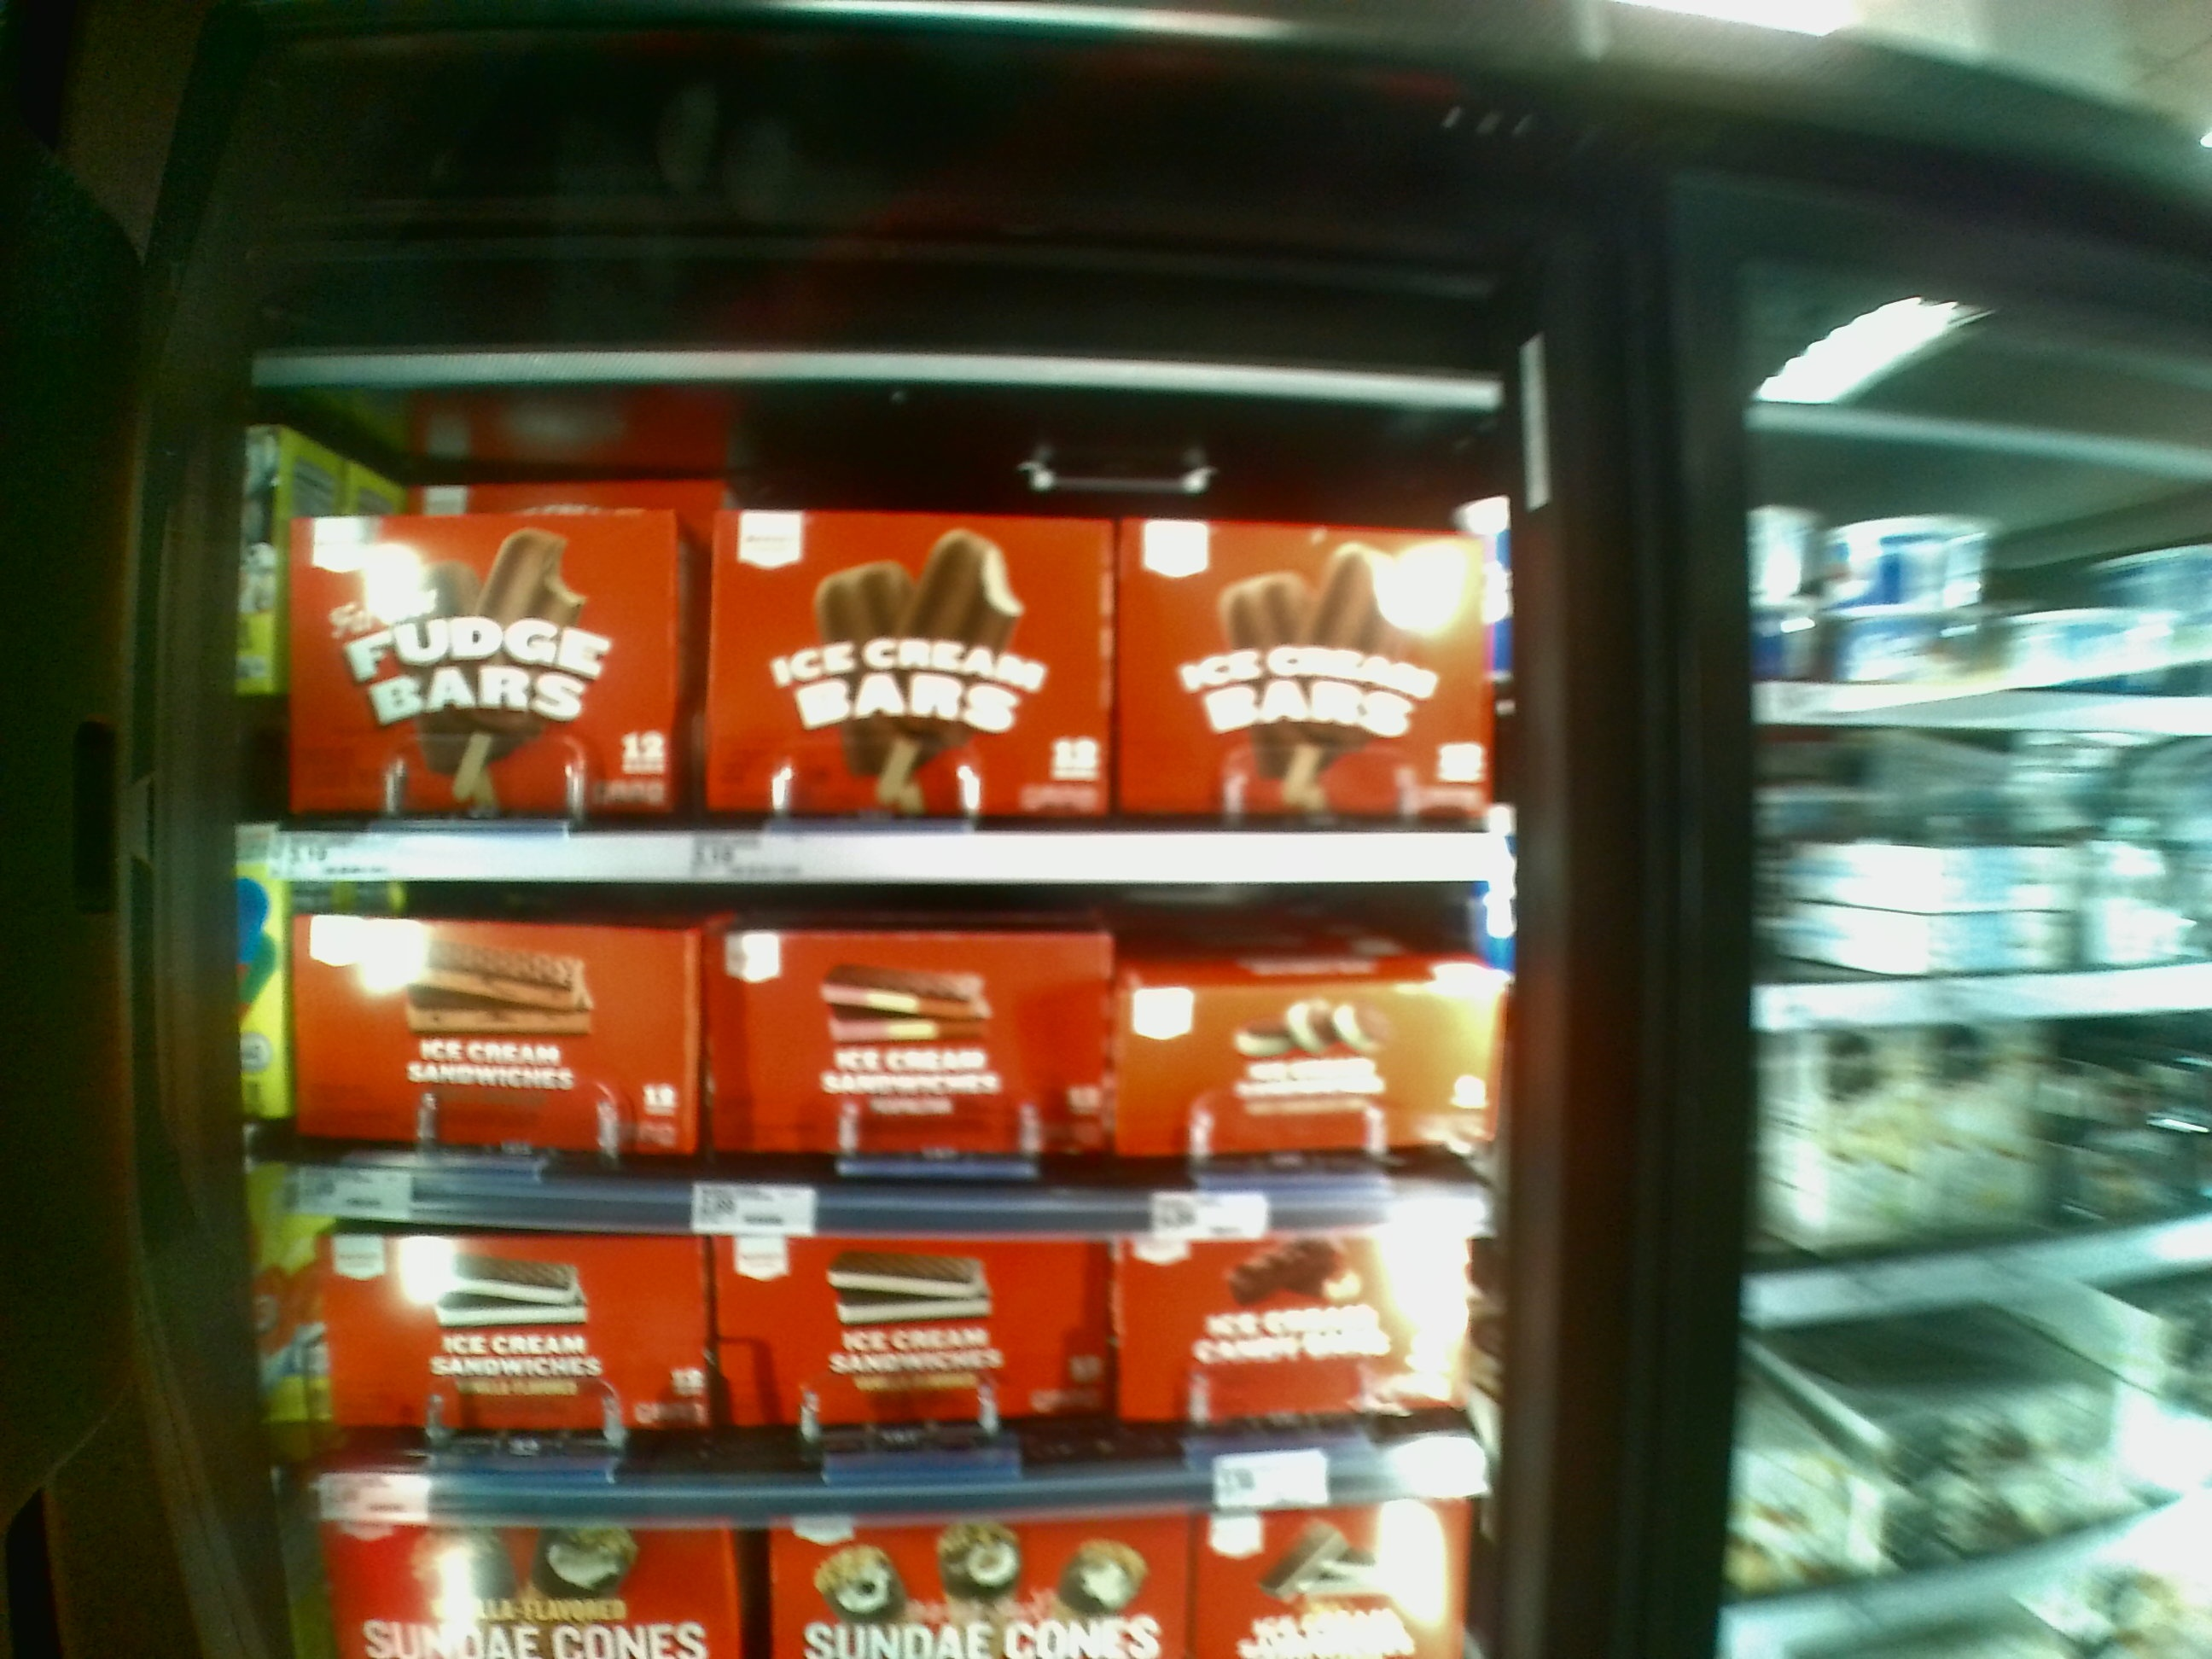shelf: (260, 397, 1500, 892), (301, 873, 1496, 1220), (314, 1215, 1484, 1504)
